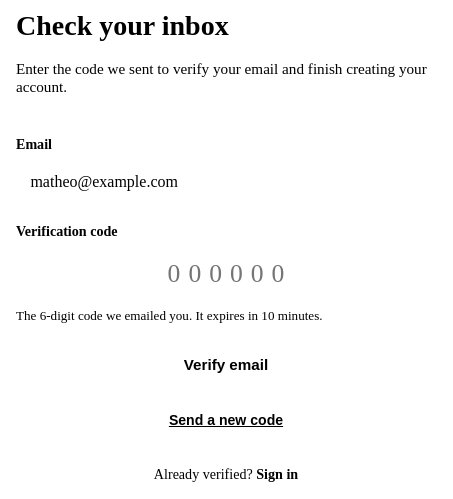
Test: VerifyEmailPage › keeps only digits in the code field
Step 1. Type "12ab34" into the field labelled "Verification code" → (226, 274), box [16, 246, 436, 302]
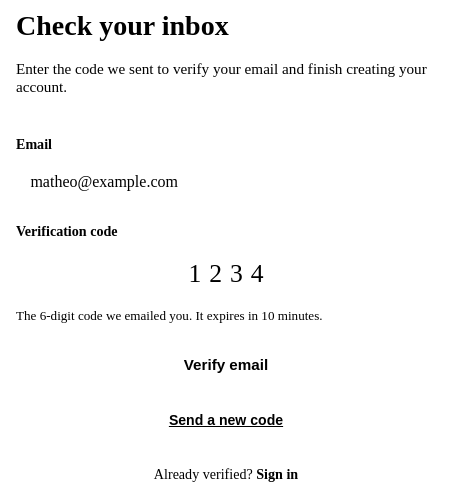
Check: the field labelled "Verification code" holds "1234", box [16, 246, 436, 302]
